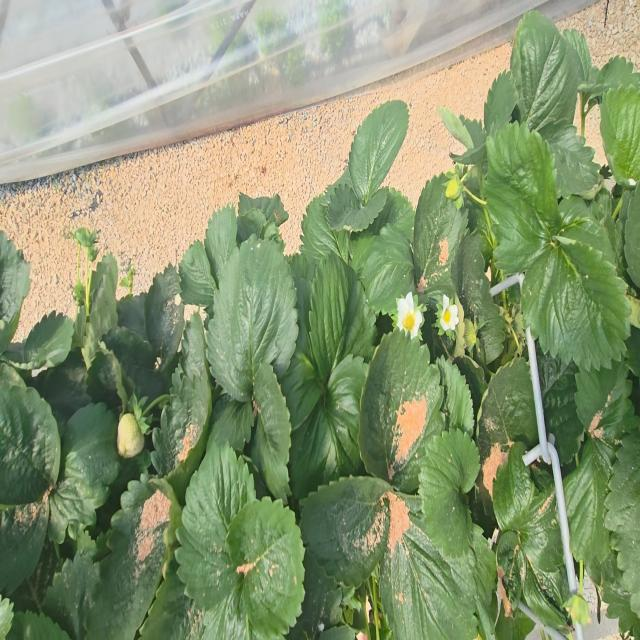Flowers: (396, 292, 423, 338), (437, 296, 459, 336)
Leaves: (380, 492, 495, 639), (206, 241, 298, 402), (521, 243, 629, 369), (176, 442, 256, 608), (88, 481, 169, 639), (360, 331, 443, 483), (484, 123, 562, 274), (290, 355, 368, 500), (301, 476, 391, 586), (50, 403, 120, 541), (0, 371, 60, 505), (511, 11, 578, 129), (418, 430, 479, 557), (308, 255, 365, 377), (151, 368, 211, 476), (478, 357, 538, 463), (348, 100, 408, 205), (563, 439, 610, 564), (413, 174, 467, 281), (574, 360, 640, 445), (349, 187, 414, 269), (253, 362, 291, 499), (0, 491, 49, 596), (291, 545, 343, 639), (361, 225, 414, 315), (104, 327, 166, 400), (539, 124, 600, 197), (140, 570, 204, 639), (301, 181, 354, 263), (600, 85, 640, 188), (145, 264, 185, 367), (281, 353, 325, 437), (16, 311, 74, 369), (202, 581, 255, 639), (206, 394, 255, 453), (328, 183, 388, 231), (0, 231, 31, 322), (179, 241, 216, 313), (205, 205, 237, 286), (86, 353, 121, 408), (563, 29, 598, 82), (182, 312, 208, 383), (117, 293, 147, 339)
Strawberries: (117, 413, 144, 458), (563, 592, 590, 625), (445, 173, 465, 209), (464, 318, 477, 351)
